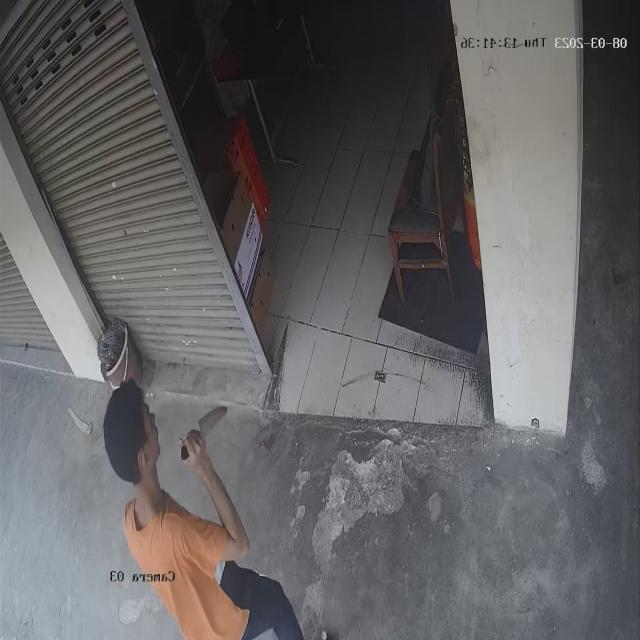Knife: (167, 402, 236, 465)
